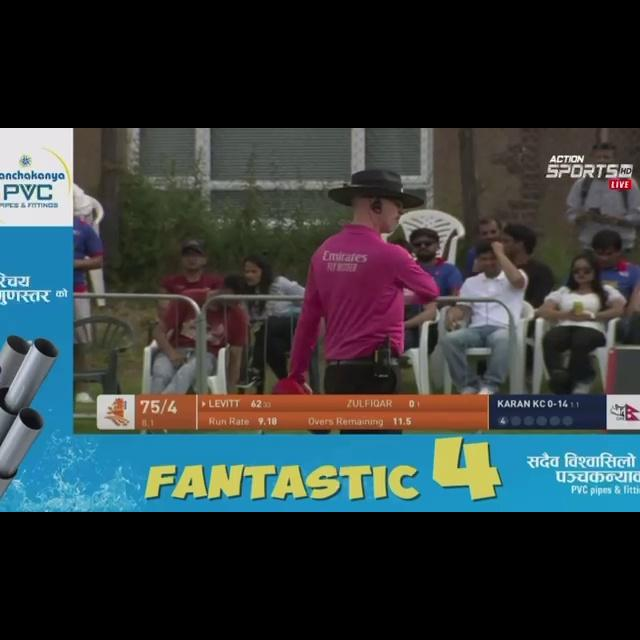umpire: (284, 164, 464, 391)
